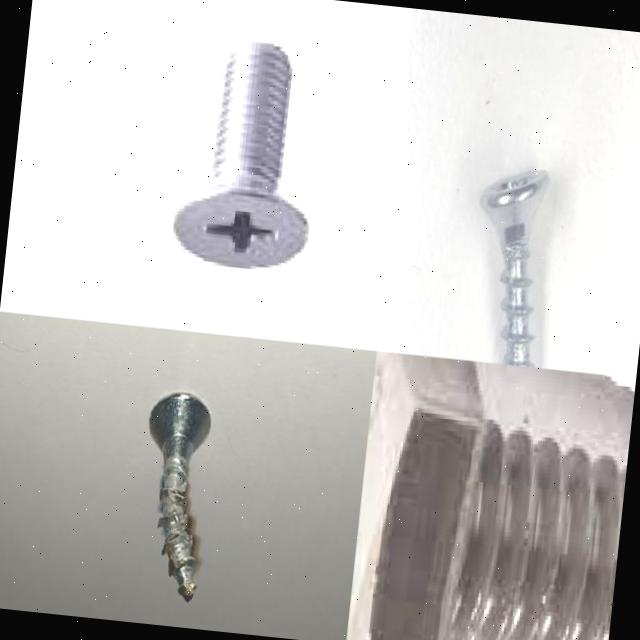Screw: (346, 351, 627, 640), (175, 41, 310, 268), (480, 171, 549, 367), (149, 394, 210, 604)
